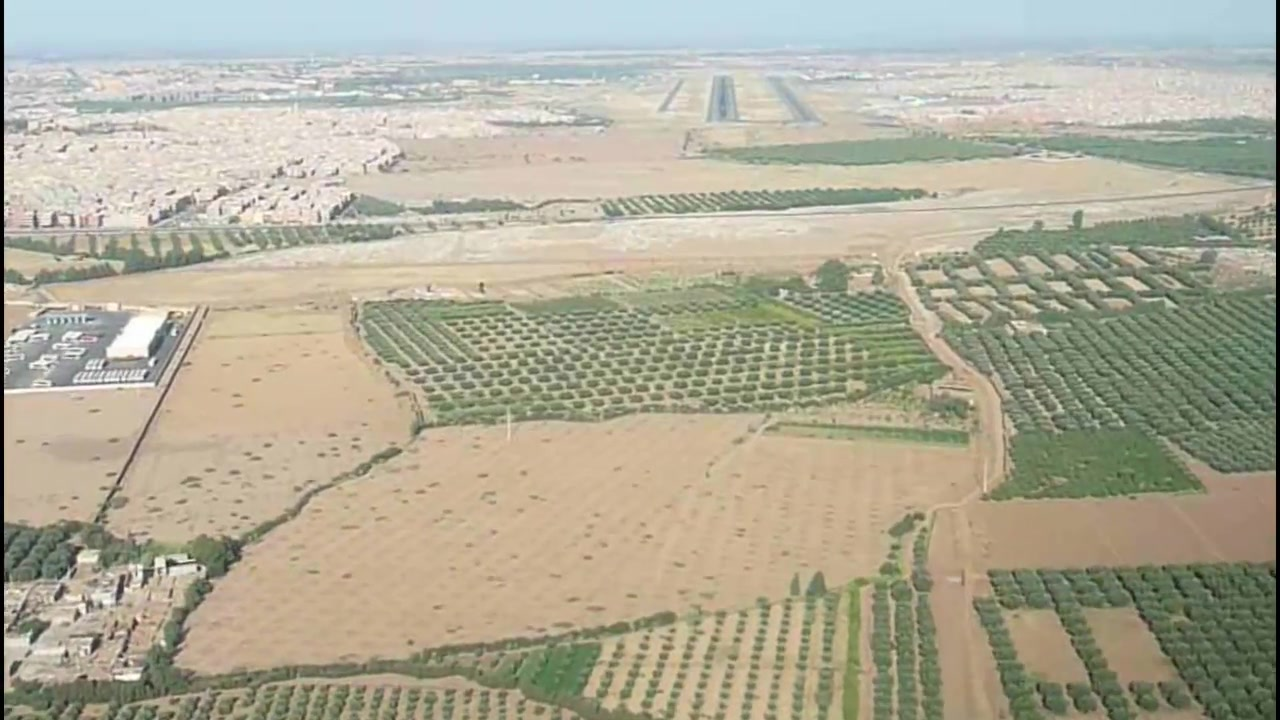runway: (700, 74, 739, 121)
